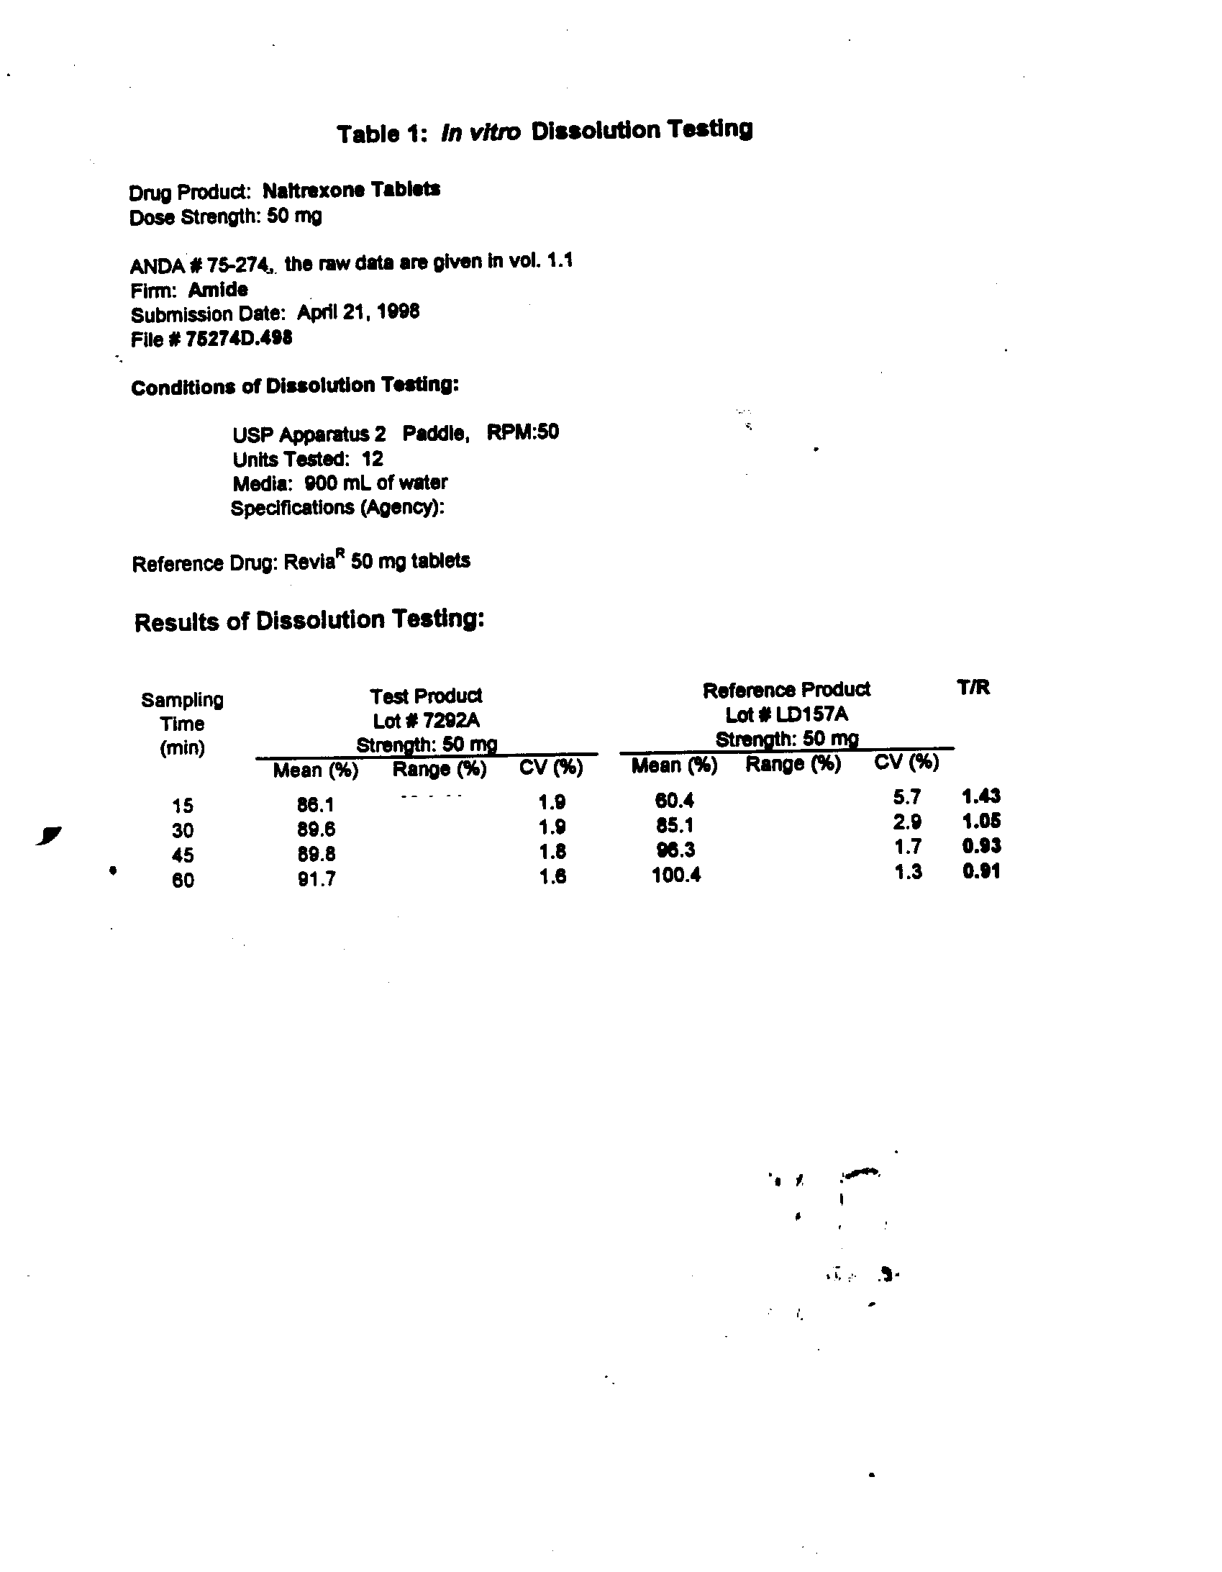nolines: (138, 676, 1005, 886)
